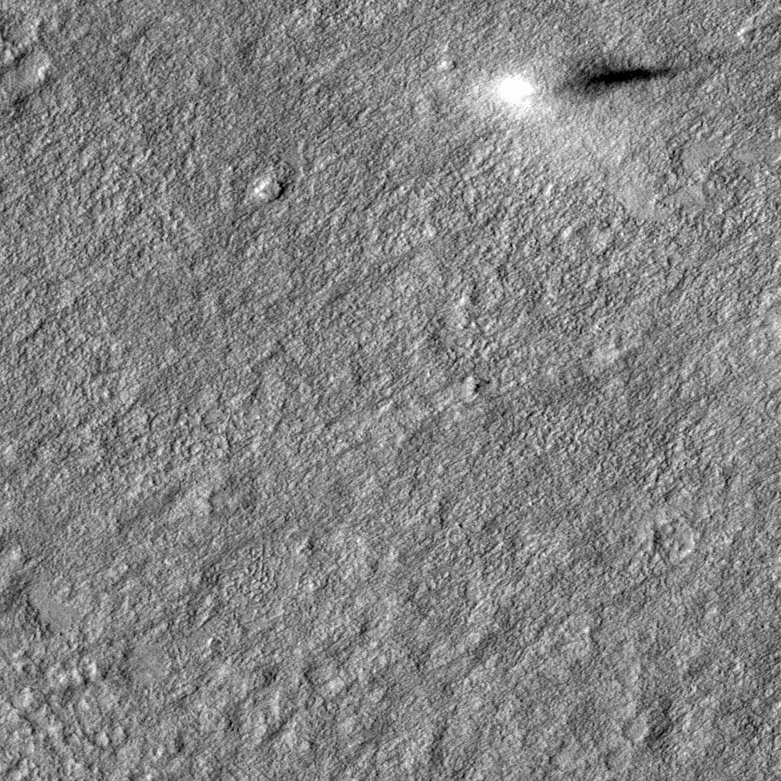dust_devil: (473, 49, 679, 124)
